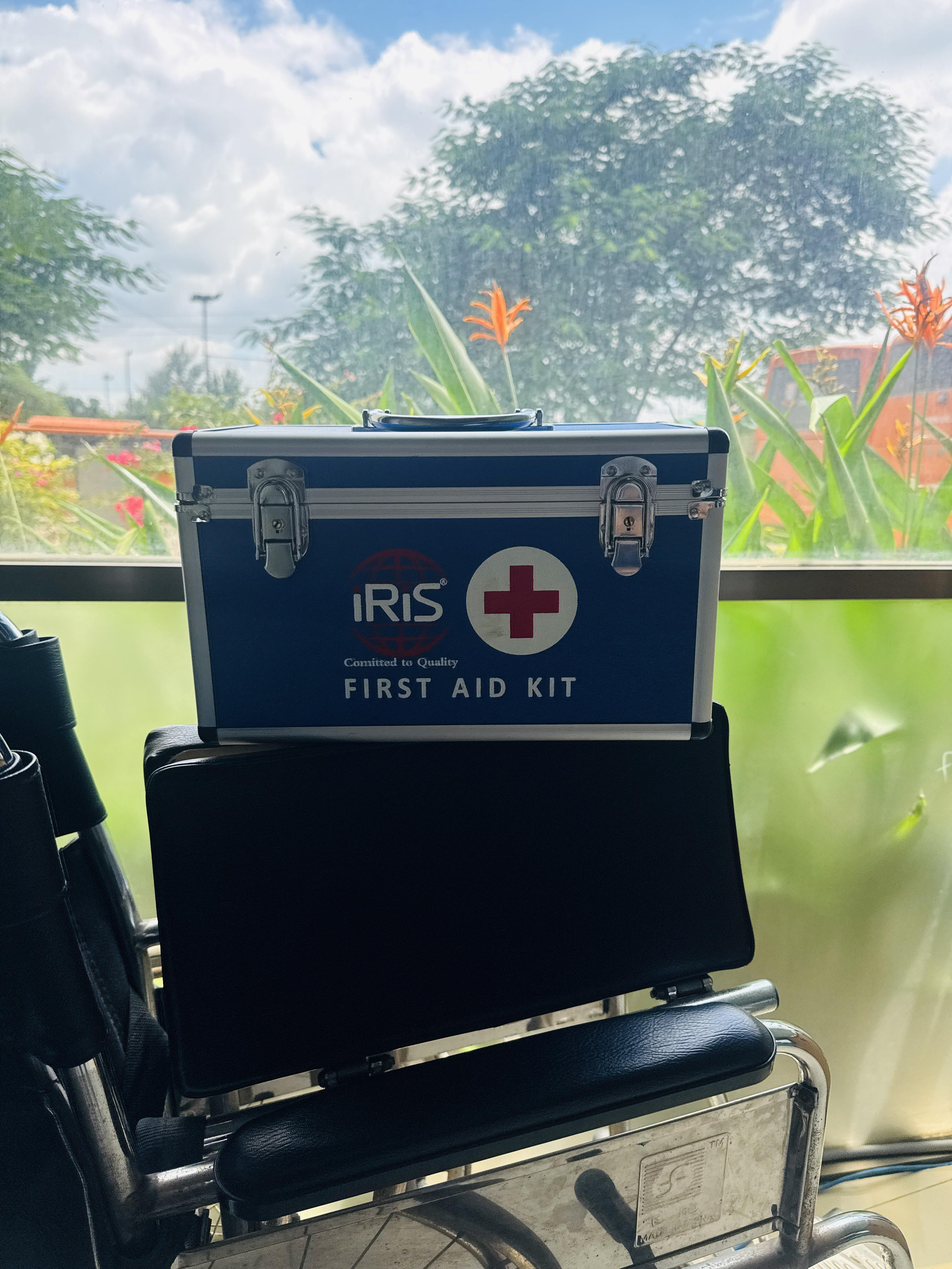FirstAidBox: (145, 387, 752, 772)
